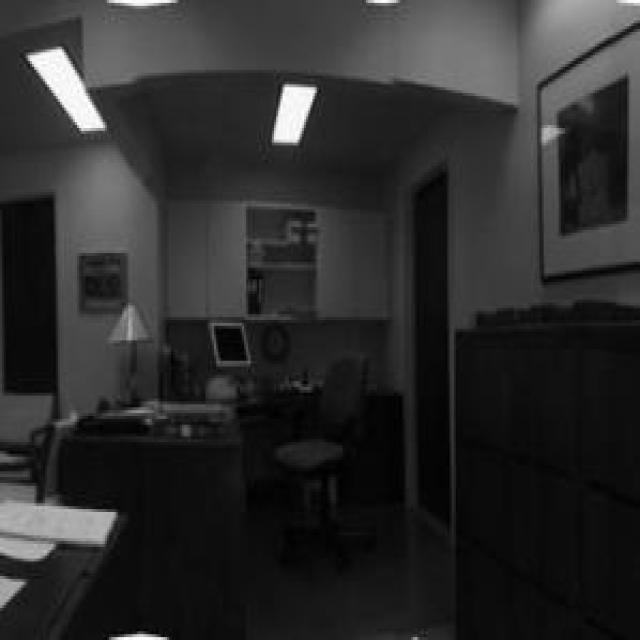Table: (445, 290, 640, 640), (104, 351, 291, 625), (0, 481, 145, 640)
chair: (280, 353, 377, 572), (6, 392, 74, 518)
